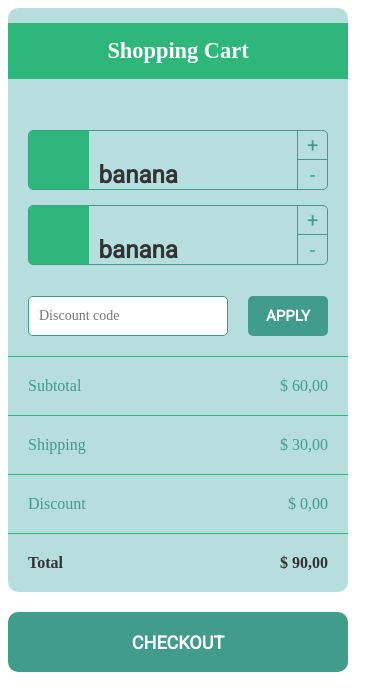
Test: Testing ShoppingCart › should be able to checkout
Click the button "CHECKOUT" at point(178, 642), box top-left (8, 612), bottom-right (348, 672)
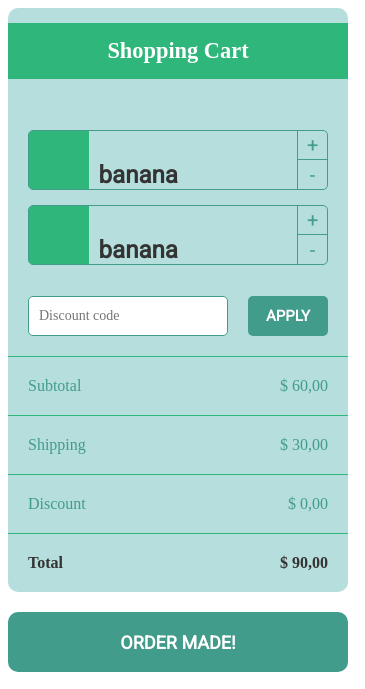
Now the button "ORDER MADE!" is shown, box top-left (8, 612), bottom-right (348, 672)
